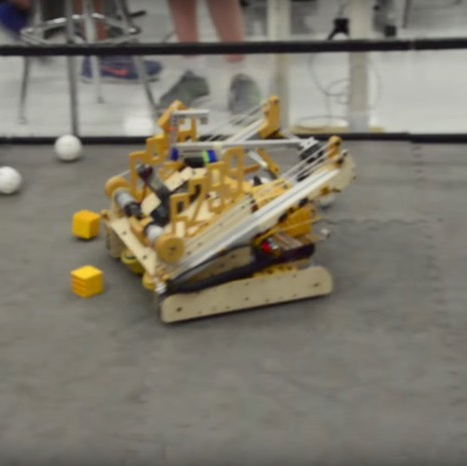robot: (98, 94, 356, 328)
